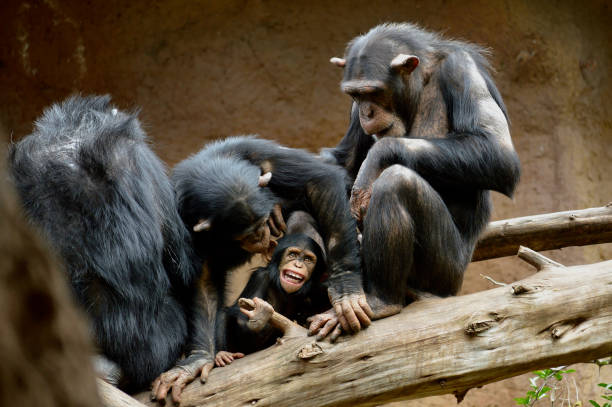chimpanzee: (323, 13, 459, 153), (266, 223, 330, 318)
